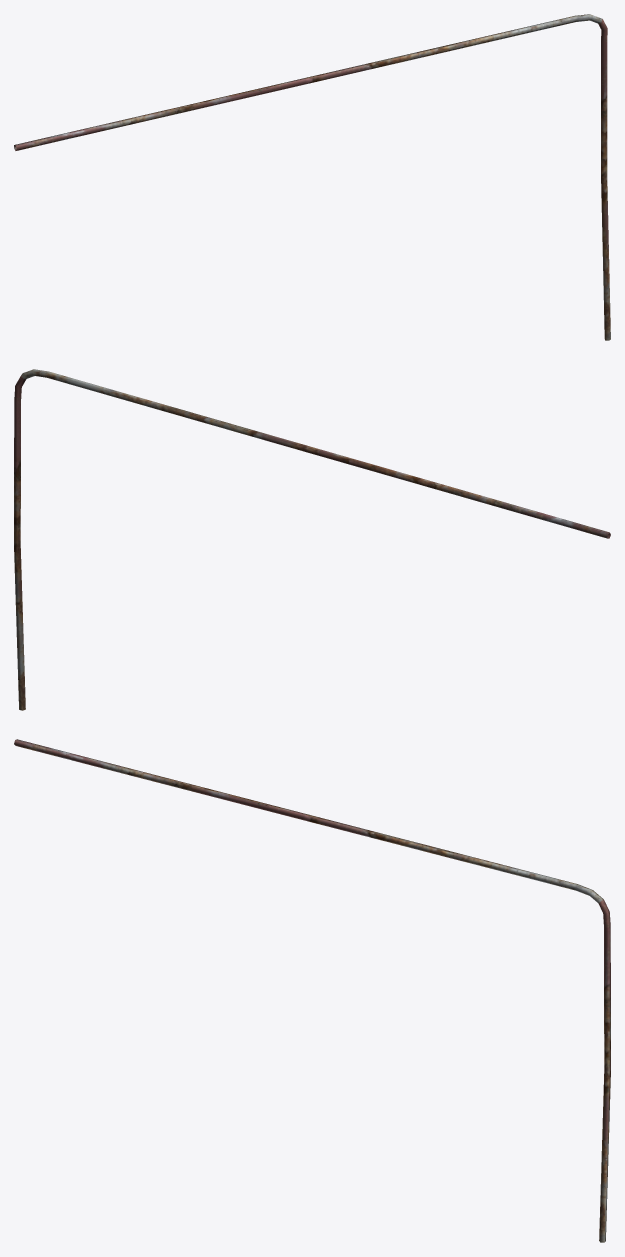
File: DirtySingleWires.FBX
The picture shows the model from 3 angles, top to bottom: view 1: azimuth 30°, elevation 25°; view 2: azimuth 150°, elevation 25°; view 3: azimuth 330°, elevation 25°; orthographic projection. The views are drawn at different scales.
Parts seen in each view (by area): view 1: DirtySingleWires; view 2: DirtySingleWires; view 3: DirtySingleWires.
Boxes of the visible parts, bbox=[...] form: DirtySingleWires: bbox=[14, 14, 610, 340]; DirtySingleWires: bbox=[14, 369, 610, 710]; DirtySingleWires: bbox=[14, 739, 610, 1242].
Size of the model in its own units: 198 by 108 by 13.23.
